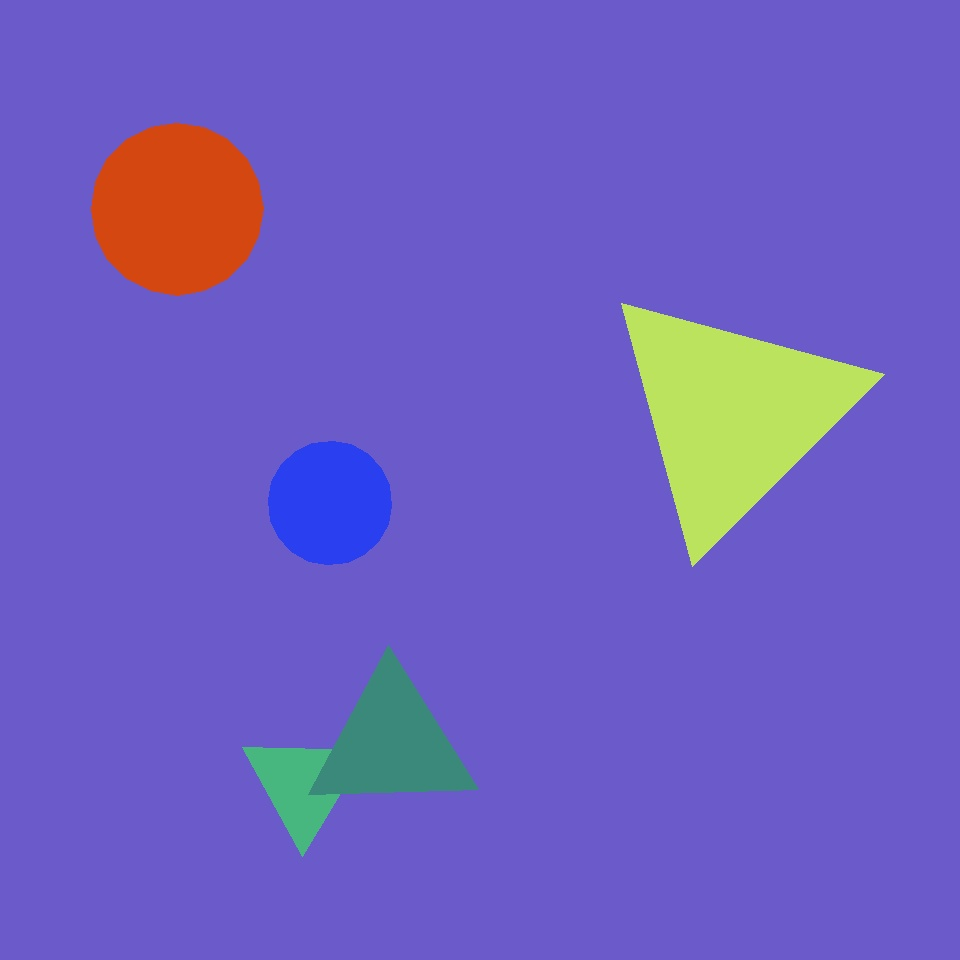circle: (602, 284, 864, 546), (307, 668, 477, 818), (242, 730, 366, 840)
square: (420, 337, 740, 658)
triangle: (327, 201, 686, 560), (91, 123, 263, 295), (268, 441, 392, 564), (727, 450, 825, 548)
